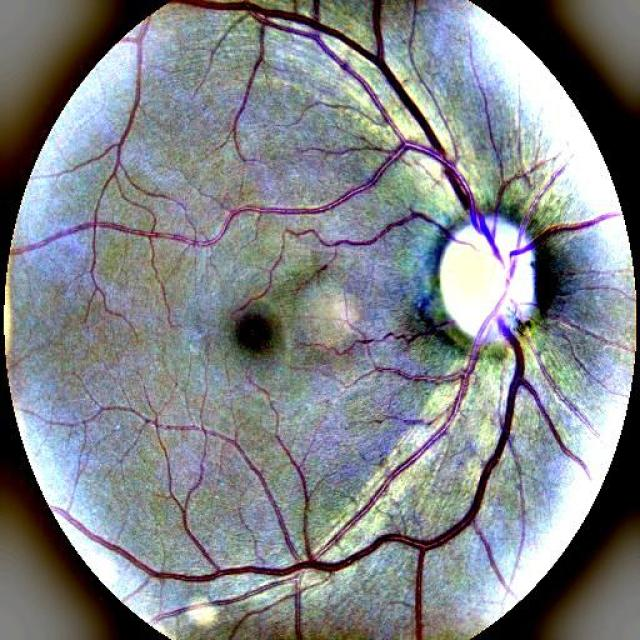Macula: (221, 296, 288, 365)
Nerves: (344, 164, 620, 639), (171, 0, 555, 264), (241, 6, 479, 219), (331, 210, 461, 275), (381, 294, 454, 345), (450, 344, 478, 419)
Optic Disk: (430, 223, 549, 351)
